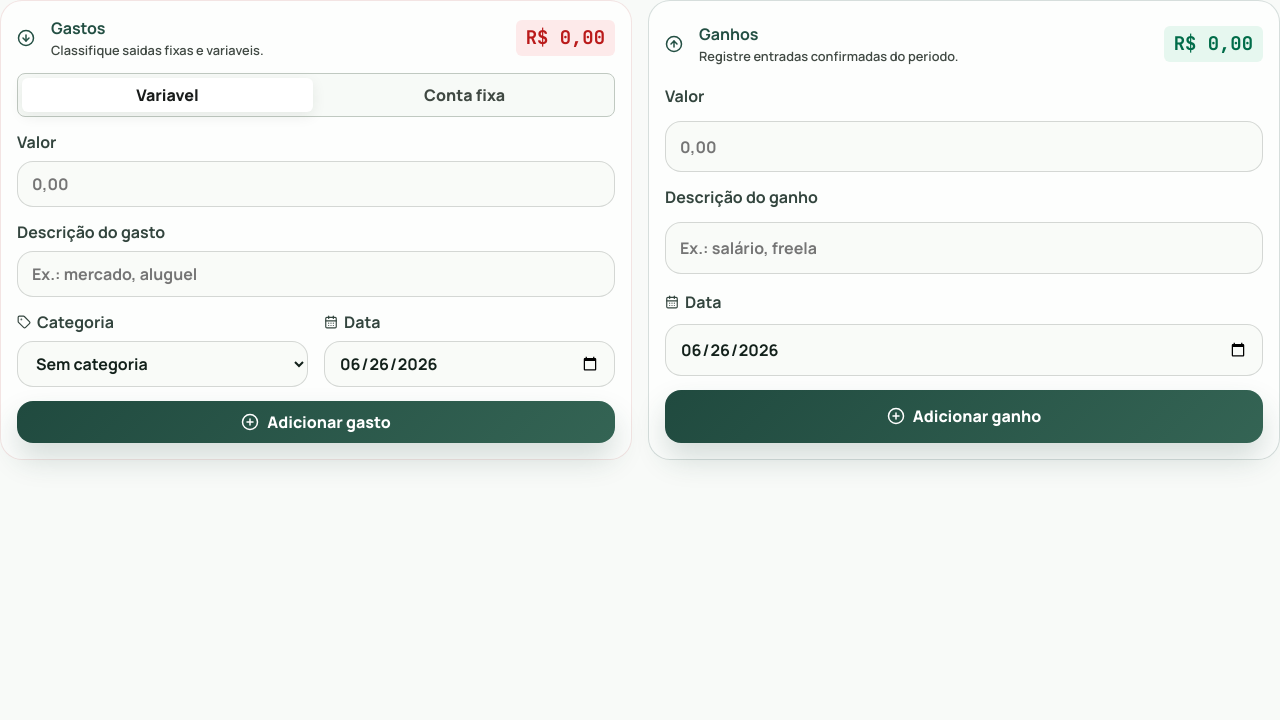
Scenario: TransactionForm › shows validation feedback and does not submit incomplete data
Click the button "Adicionar gasto": (316,422) [17,401,615,443]
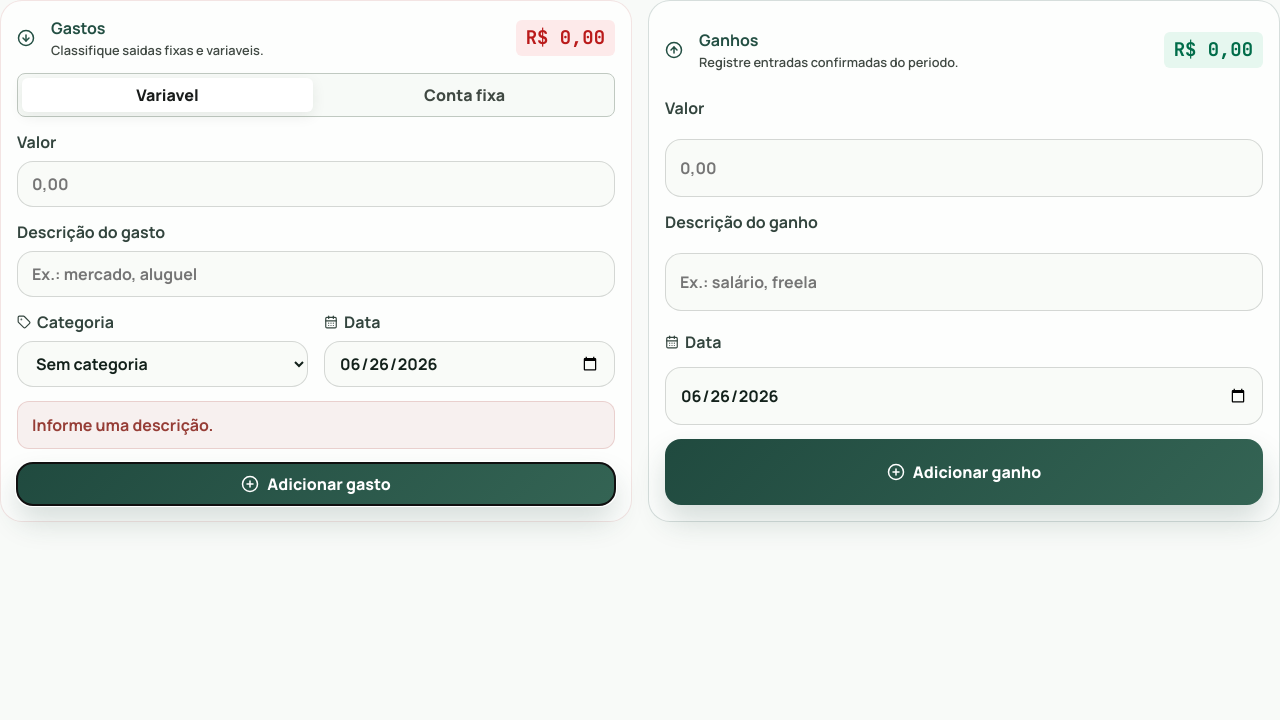
expect the text "Informe uma descrição." is shown: met, box [17,401,615,449]
